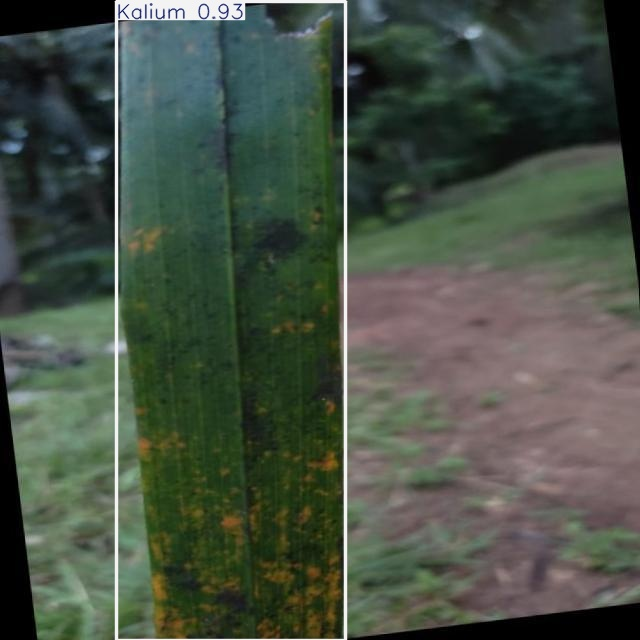Kalium: (117, 2, 346, 640)
